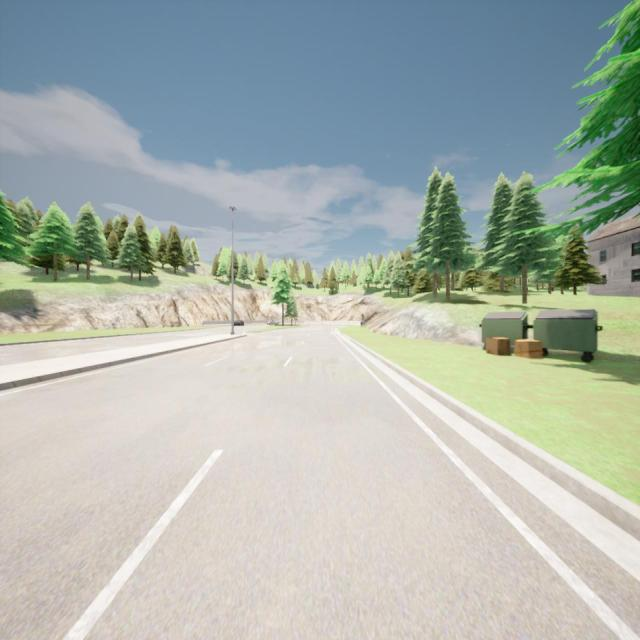Vehicle: (267, 319, 279, 327), (233, 319, 245, 326)
